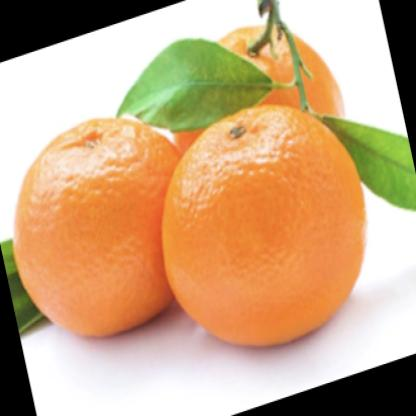fresh: (14, 1, 368, 390)
